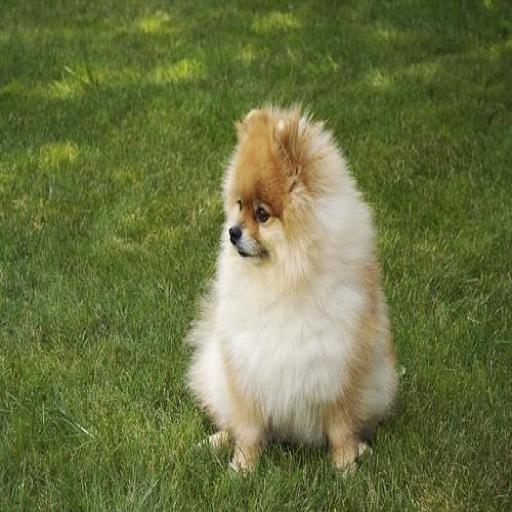dog_face: (226, 106, 294, 257)
